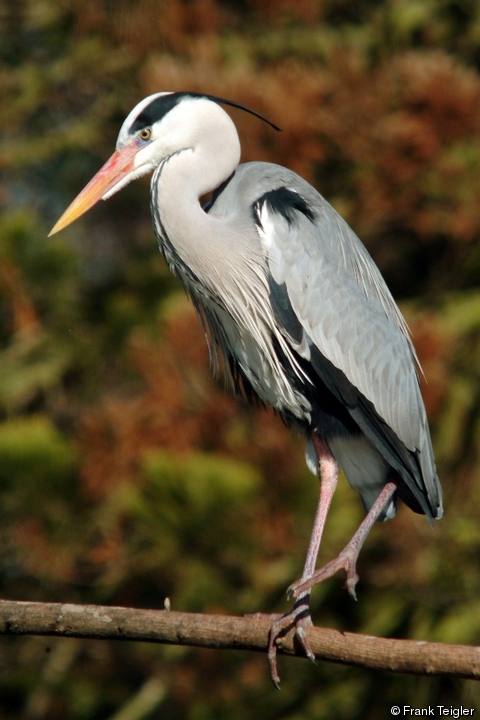heron: (47, 87, 443, 680)
